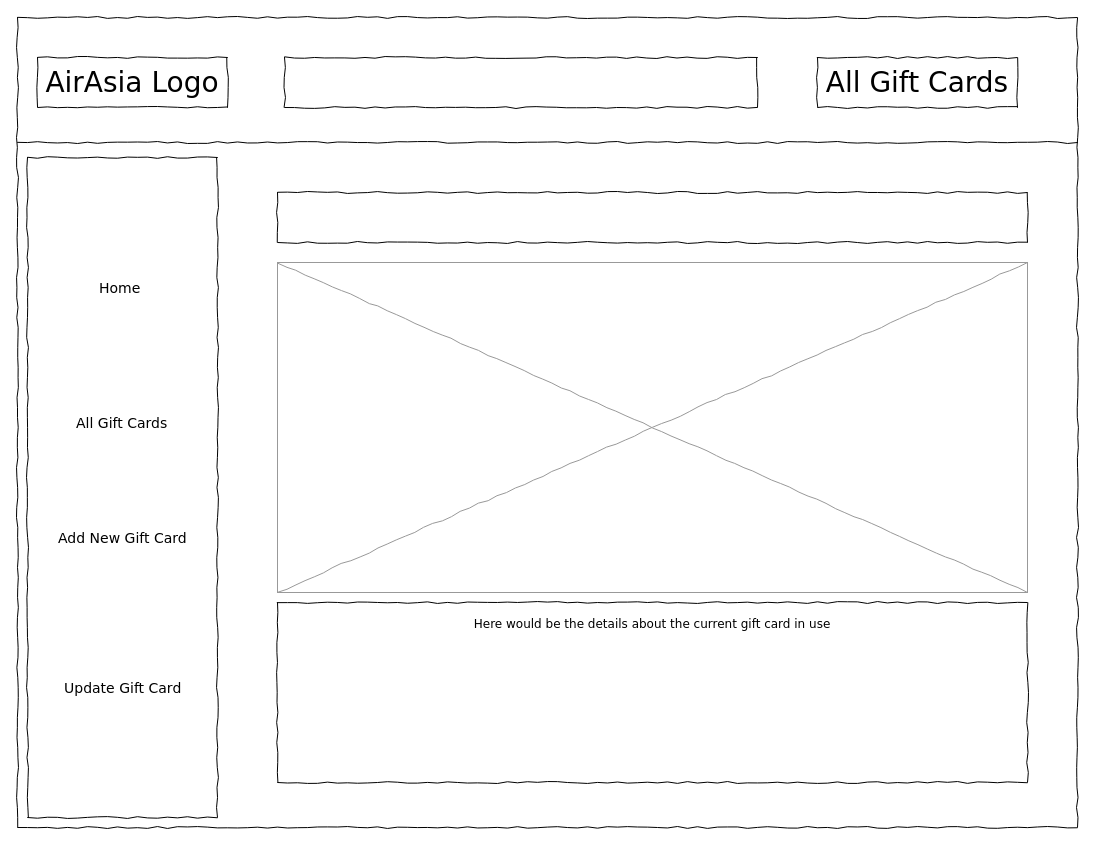
Some shapes in this 1095 by 845 pixel diagram are drawn without their labels. The box of each missing label's shape, as (x1, y1, x2, y2) in pixels:
Air Asia Rewards: (284, 56, 758, 108)
Current Gift Card Name: (276, 192, 1028, 242)
